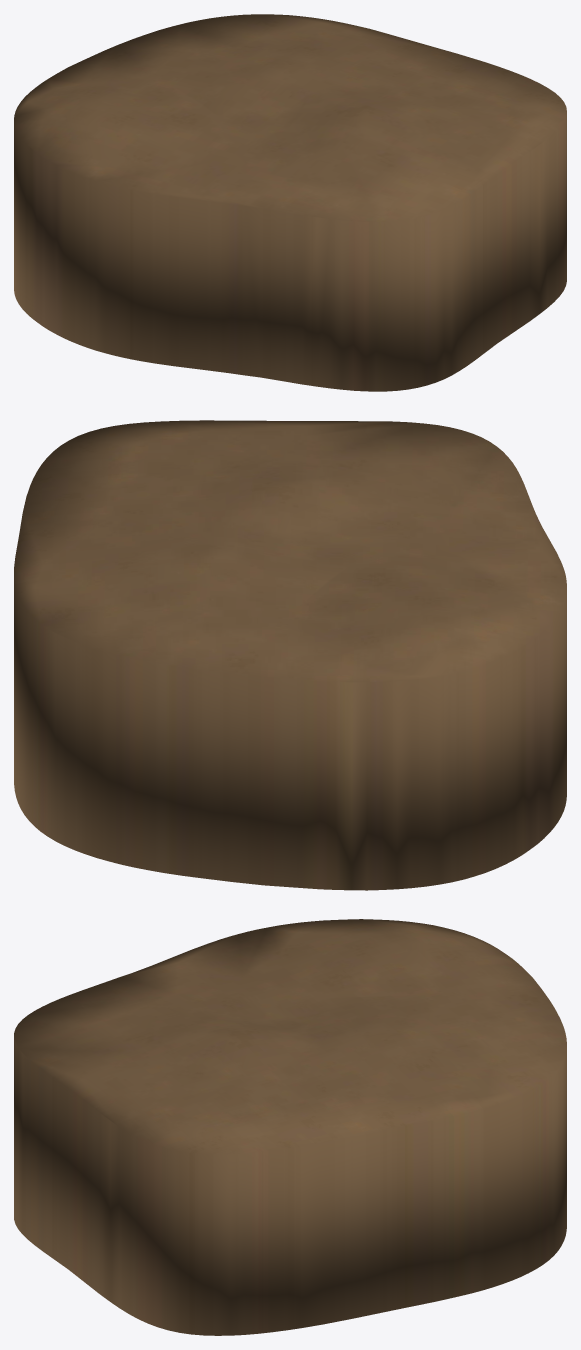
3 views of the same model, one above another, from view 1: azimuth 30°, elevation 25°; view 2: azimuth 150°, elevation 25°; view 3: azimuth 270°, elevation 25° (orthographic). The views are drawn at different scales.
Parts seen in each view (by area): view 1: SM_Vault_Sand_Pile_01_Solid_LOD0; view 2: SM_Vault_Sand_Pile_01_Solid_LOD0; view 3: SM_Vault_Sand_Pile_01_Solid_LOD0.
Part boxes in pixels (box(x1,y1,x2,y2)): SM_Vault_Sand_Pile_01_Solid_LOD0: box(14, 14, 566, 391); SM_Vault_Sand_Pile_01_Solid_LOD0: box(14, 420, 566, 890); SM_Vault_Sand_Pile_01_Solid_LOD0: box(14, 919, 566, 1335).
Bounding box in the file's own units: 5.15 × 2.06 × 5.12.
Materials: 1 (1 with a texture image).
